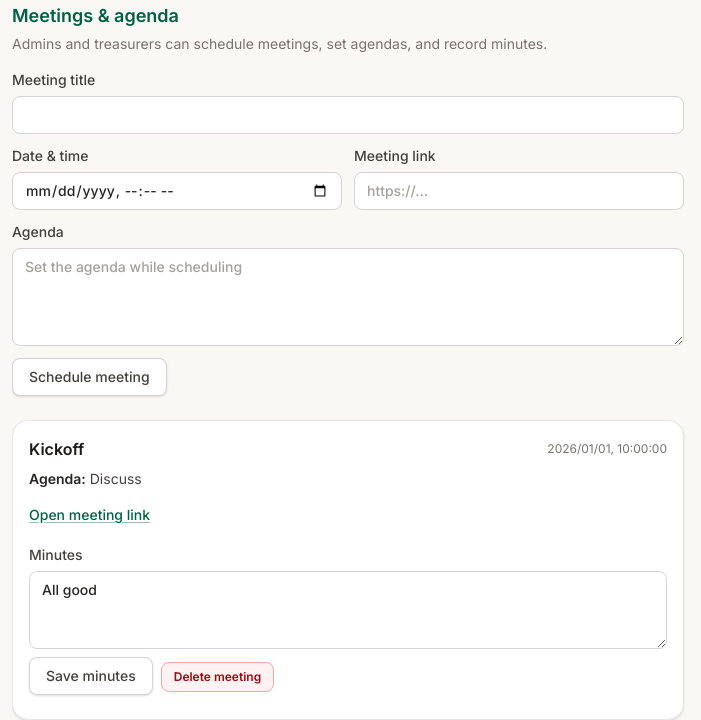
Test case: AdminEditStokvel › Meetings › saves minutes successfully
(page scrolled)
Replace the text in the text box with placeholder "Record minutes..." with "Updated minutes" at (348, 610), box [29, 571, 667, 649]
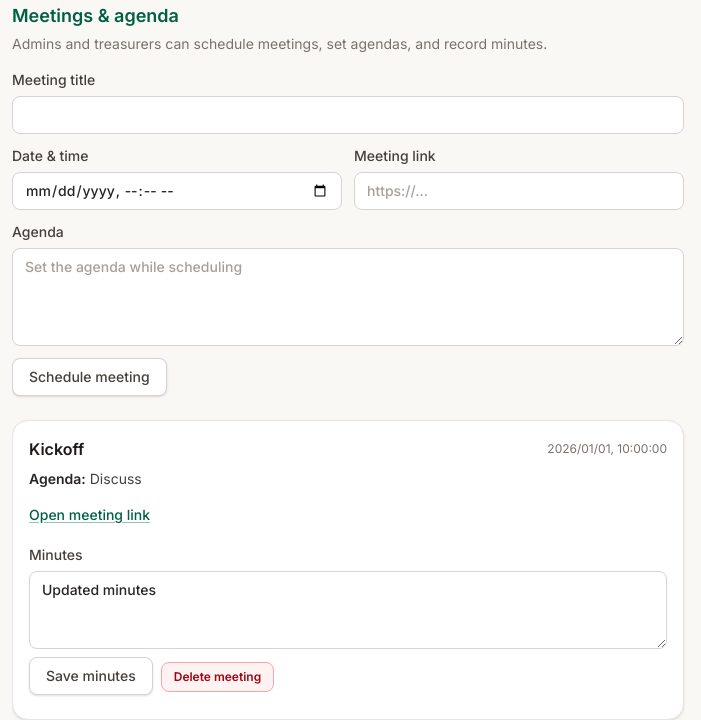
Click the button "Save minutes" at (91, 676), box [29, 657, 153, 695]
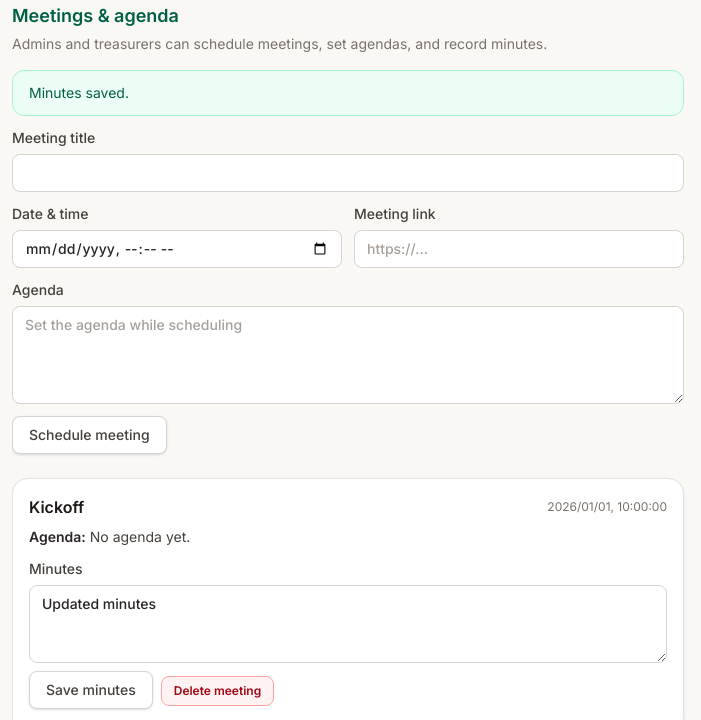
Expected: the text "Minutes saved." is shown, [12, 70, 684, 116]
